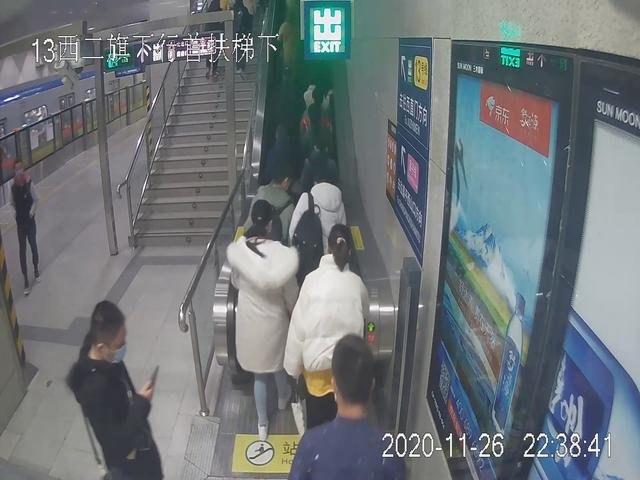person: (225, 197, 305, 444), (65, 297, 170, 480), (286, 221, 376, 433), (283, 333, 408, 480), (285, 168, 358, 290), (3, 156, 45, 299)
